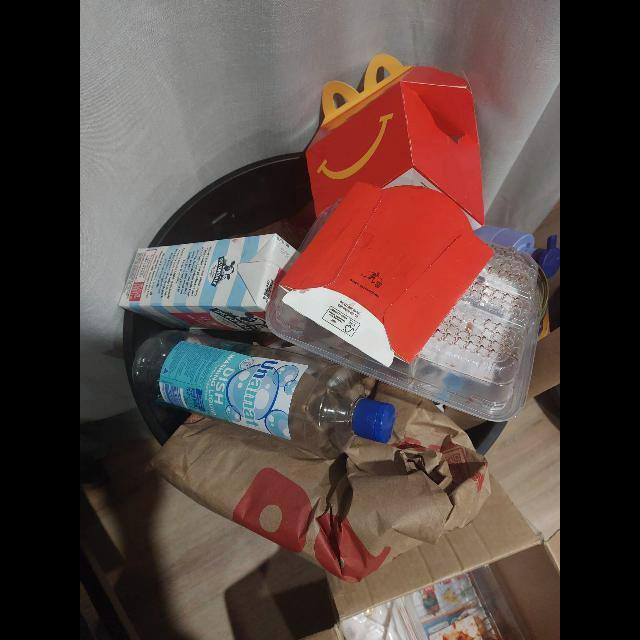cardboard: (305, 54, 484, 284), (278, 182, 495, 367)
plastic_bottle: (131, 330, 396, 460)
